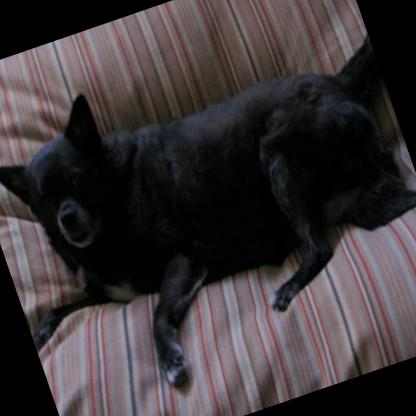schipperke: (0, 6, 416, 416)
